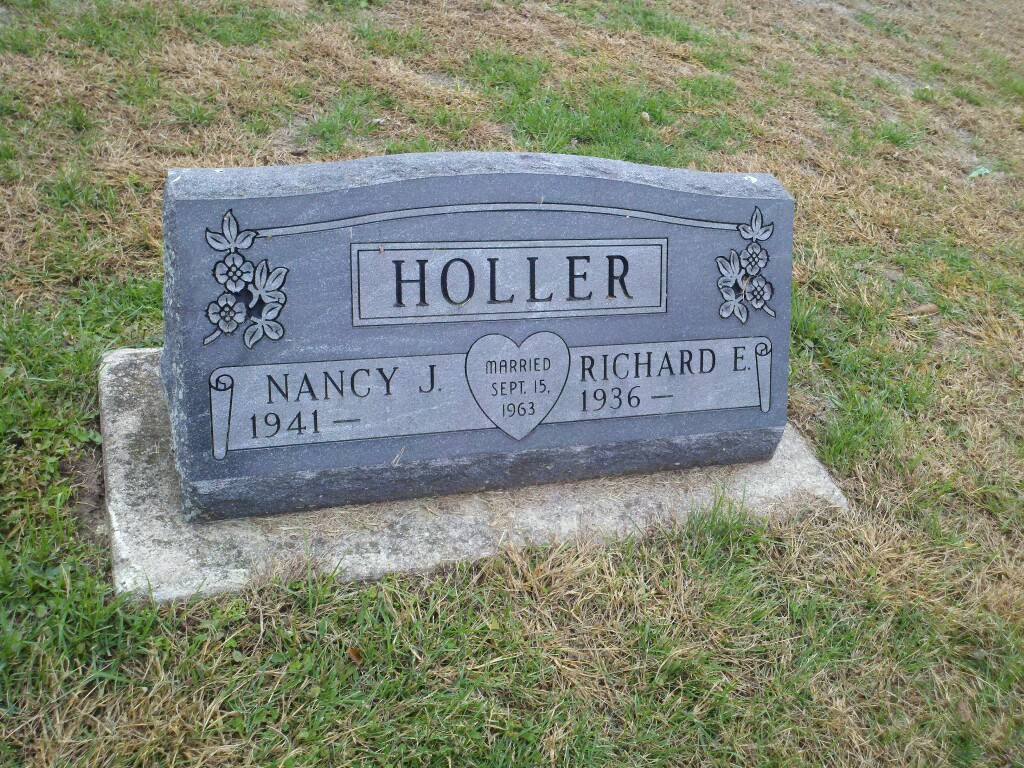slant: (91, 133, 852, 597)
